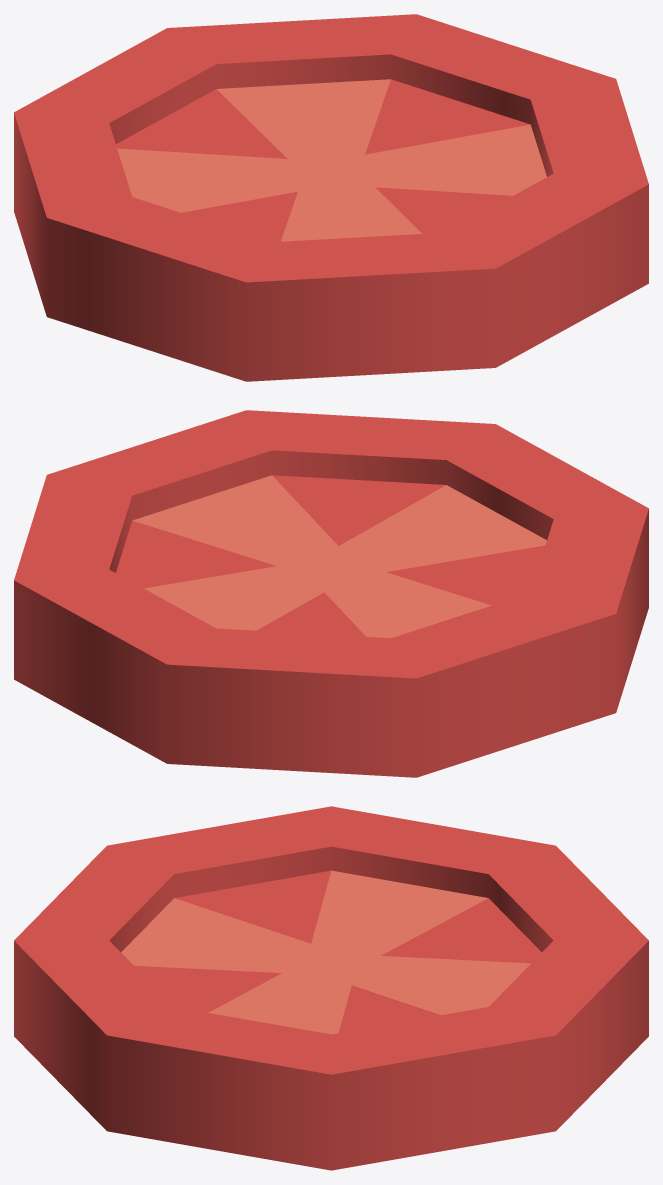
Rendered from bandage.glb.
3 views of the same model, one above another, from view 1: azimuth 30°, elevation 25°; view 2: azimuth 150°, elevation 25°; view 3: azimuth 270°, elevation 25° (orthographic). The views are drawn at different scales.
Parts seen in each view (by area): view 1: tomatoSlice; view 2: tomatoSlice; view 3: tomatoSlice.
Boxes of the visible parts, x1,y1,x2,y2 form: tomatoSlice: (14,14,648,381); tomatoSlice: (14,410,648,777); tomatoSlice: (14,806,648,1170).
Size of the model in its own units: 0.18 by 0.03 by 0.18.
